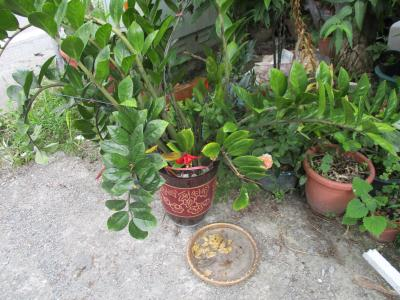plate: (182, 220, 262, 289)
